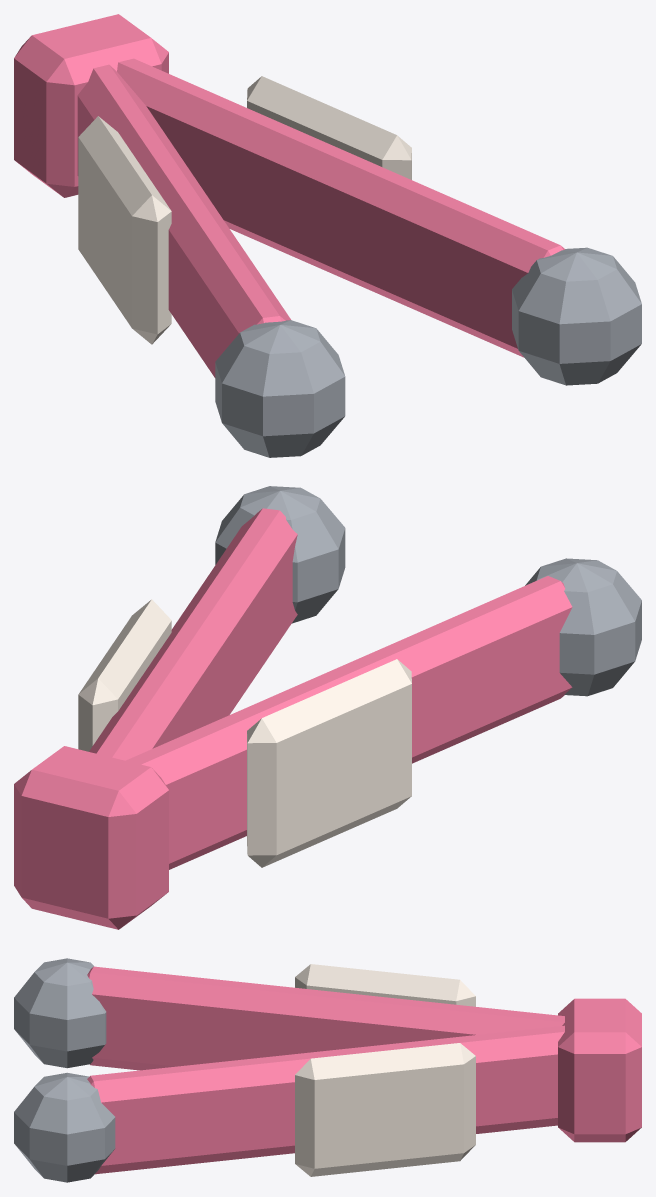
The model's file is CleanACat_Tool_Tweezers.fbx.
3 views of the same model, one above another, from view 1: azimuth 30°, elevation 25°; view 2: azimuth 150°, elevation 25°; view 3: azimuth 270°, elevation 25° (orthographic). The views are drawn at different scales.
Parts seen in each view (by area): view 1: CleanACat_Tool_Tweezers; view 2: CleanACat_Tool_Tweezers; view 3: CleanACat_Tool_Tweezers.
Boxes of the visible parts, x1,y1,x2,y2 form: CleanACat_Tool_Tweezers: [14, 14, 641, 457]; CleanACat_Tool_Tweezers: [14, 486, 641, 929]; CleanACat_Tool_Tweezers: [14, 958, 641, 1182].
Size of the model in its own units: 0.8086 by 0.28 by 1.35.
1 material, 1 textured.
